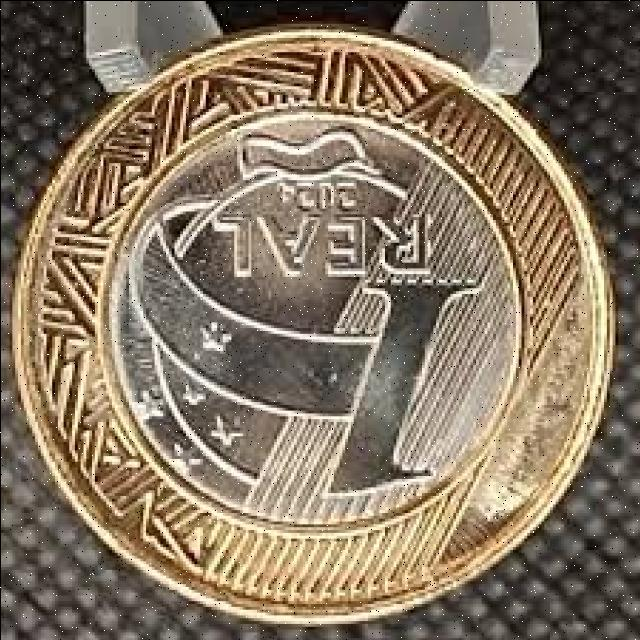1 real: (18, 46, 606, 620)
